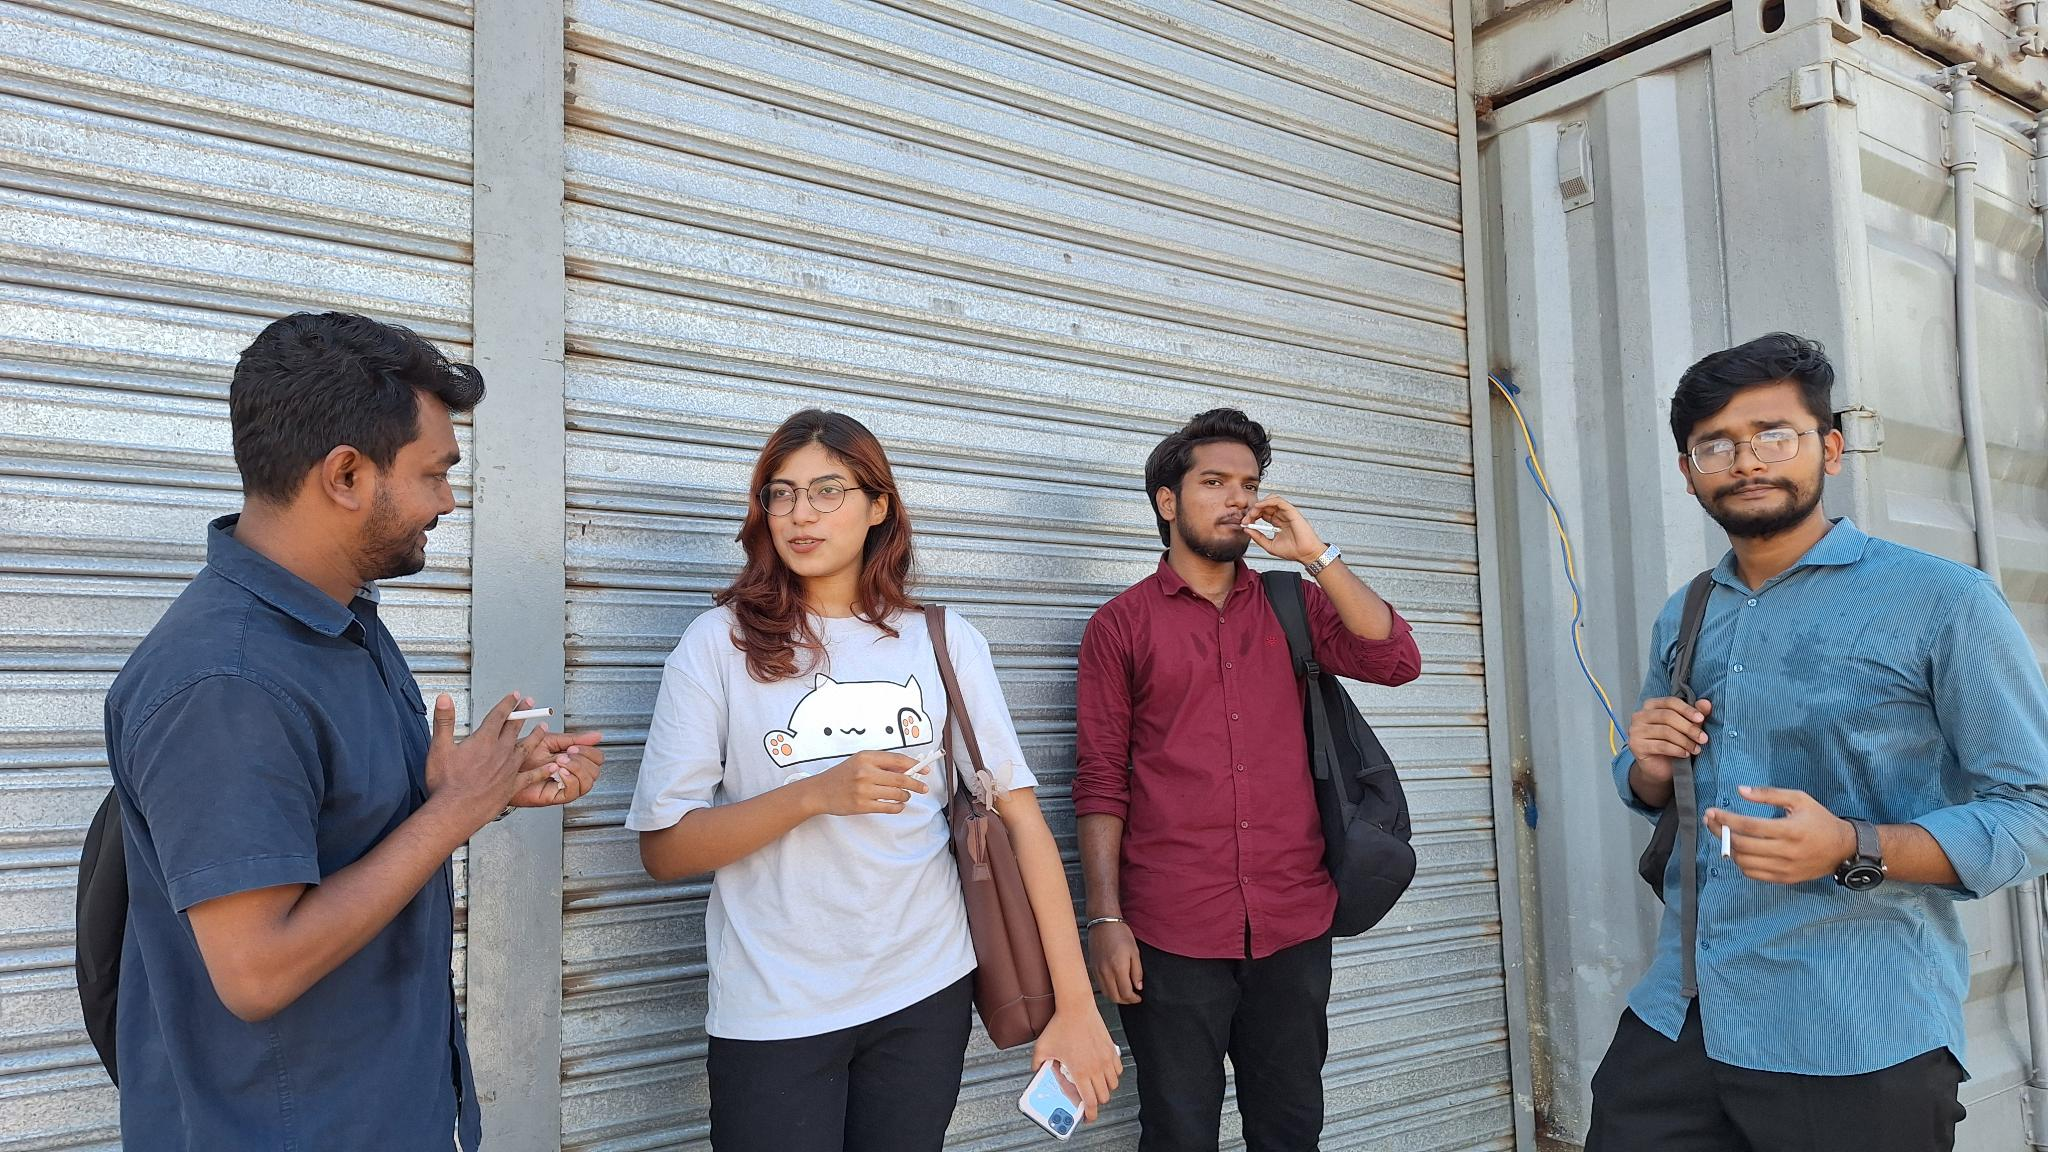cigarette: (902, 747, 948, 778), (505, 706, 556, 723), (1717, 820, 1734, 864), (1238, 522, 1283, 535)
smoker: (77, 312, 605, 1152), (1587, 331, 2048, 1152), (625, 409, 1124, 1152), (1070, 408, 1422, 1152)
